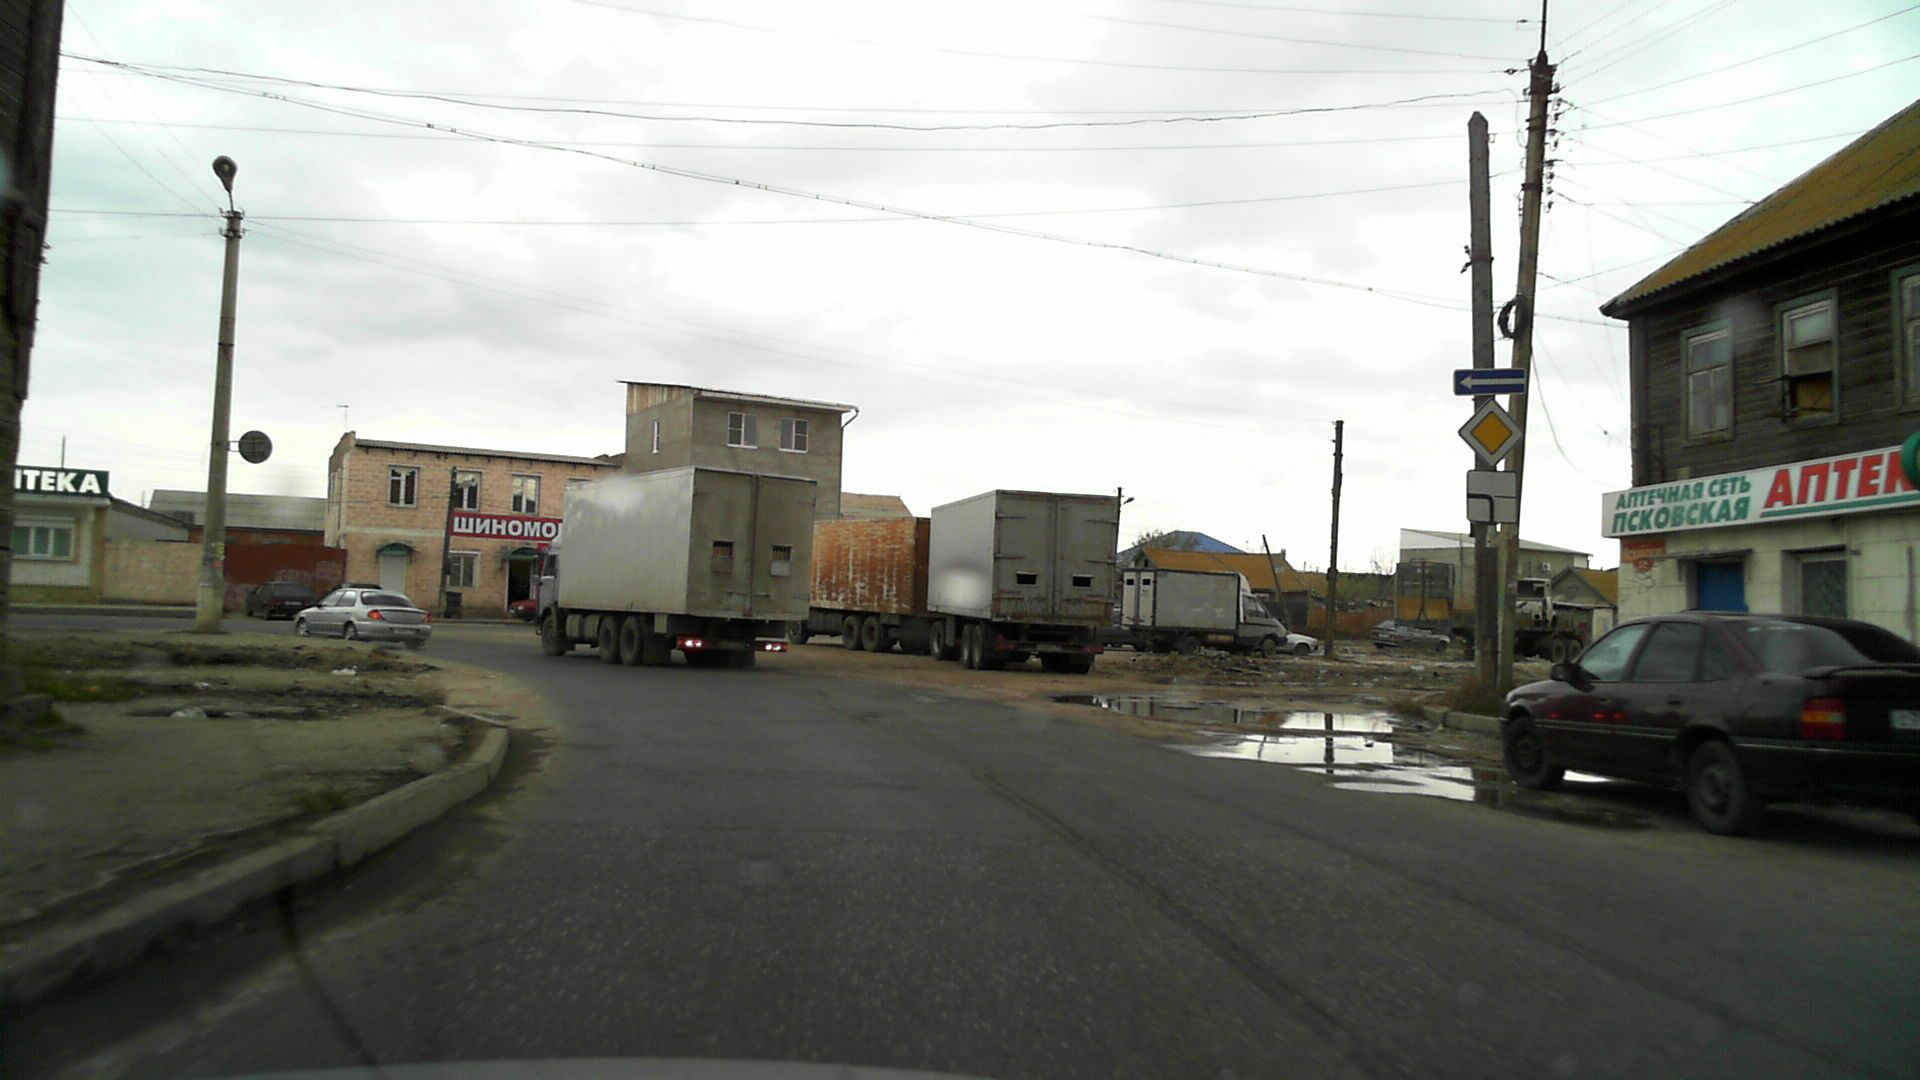One-Way Traffic: (1453, 368, 1526, 396)
